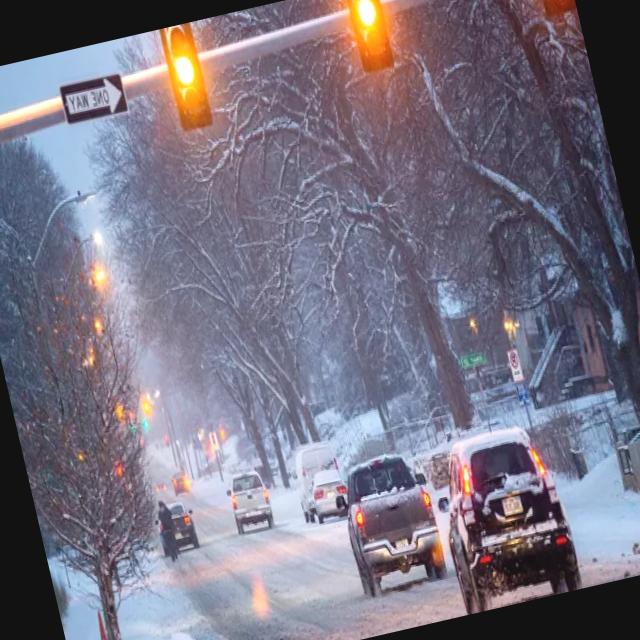Vehicle: (418, 386, 597, 615), (320, 416, 452, 618), (216, 452, 280, 538), (308, 473, 335, 514)
